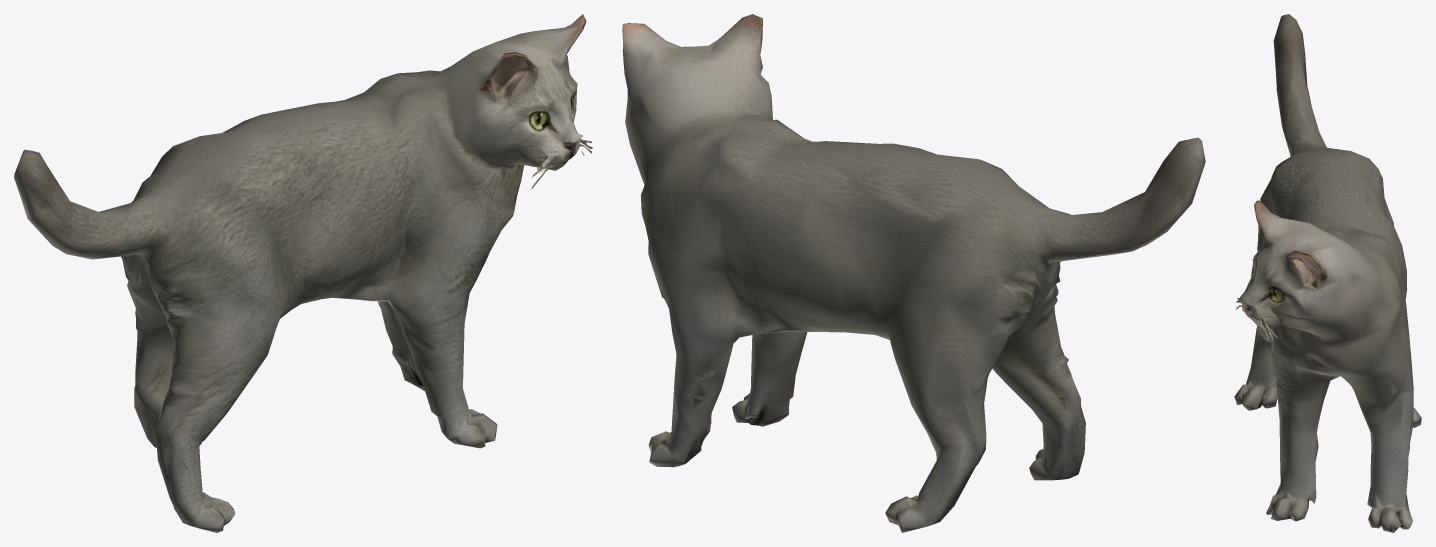
The model's file is LICHENPAW-lo.glb.
3 renders of one model, left to right at view 1: azimuth 30°, elevation 25°; view 2: azimuth 150°, elevation 25°; view 3: azimuth 270°, elevation 25°, orthographic. The views are drawn at different scales.
Visible parts, largest first — view 1: tripo_node_aefab1c0-2735-4d73-b961-556b05ee8d3e; view 2: tripo_node_aefab1c0-2735-4d73-b961-556b05ee8d3e; view 3: tripo_node_aefab1c0-2735-4d73-b961-556b05ee8d3e.
Part boxes in pixels (left/top/right/bottom): tripo_node_aefab1c0-2735-4d73-b961-556b05ee8d3e: left=14, top=14, right=593, bottom=532; tripo_node_aefab1c0-2735-4d73-b961-556b05ee8d3e: left=622, top=14, right=1205, bottom=532; tripo_node_aefab1c0-2735-4d73-b961-556b05ee8d3e: left=1234, top=14, right=1421, bottom=532.
Bounding box in the file's own units: 1.52 × 0.9989 × 0.5216.
Materials: 1 (1 with a texture image).
